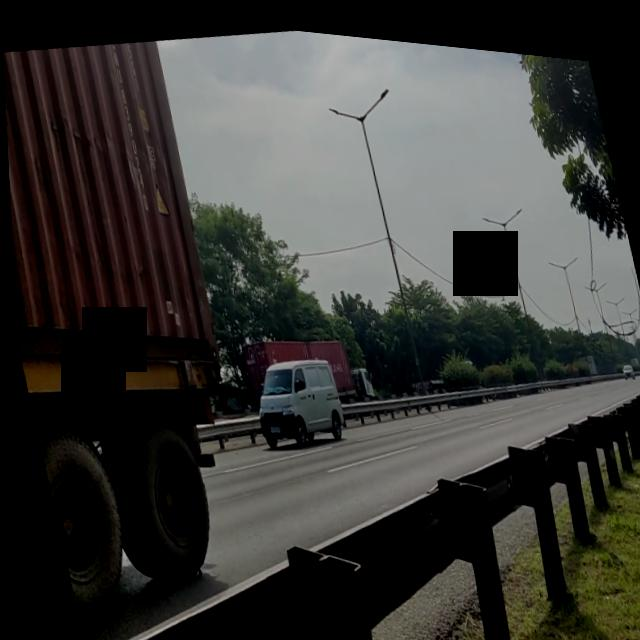Golongan I: (239, 333, 346, 455)
